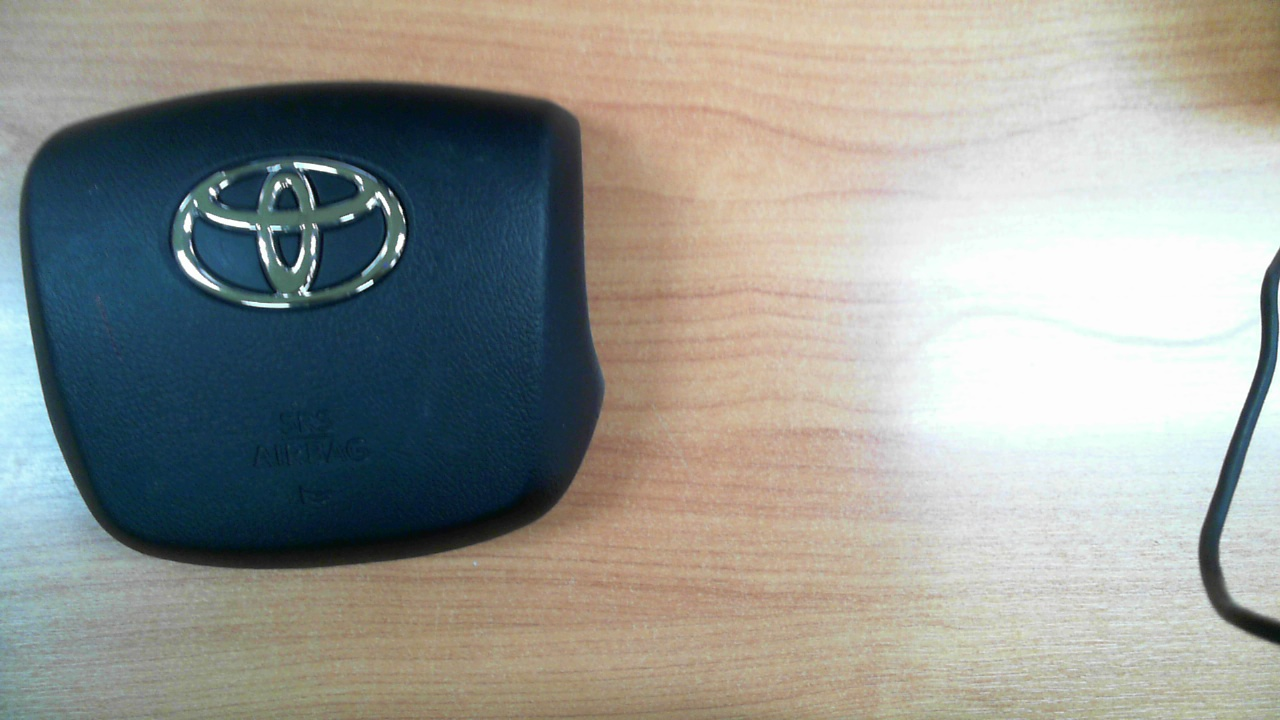Airbag: (26, 84, 603, 556)
Toyota: (171, 155, 407, 310)
